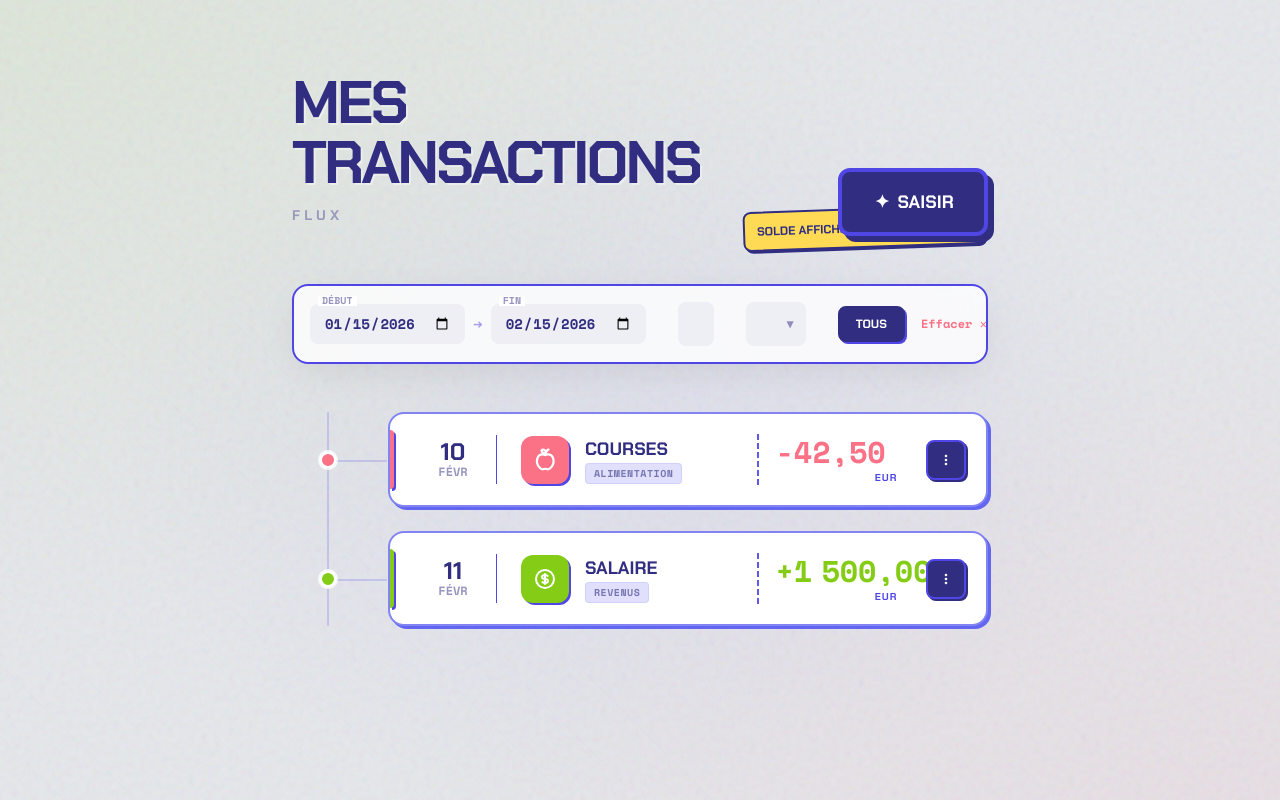
Test: US11 - Suppression transaction › La modale de confirmation affiche les infos de la transaction
This screenshot has width=1280, height=800.
Click the button titled "Actions" next to "42,50". click: coordinates (946, 460)
box: top-left (926, 440), bottom-right (966, 480)
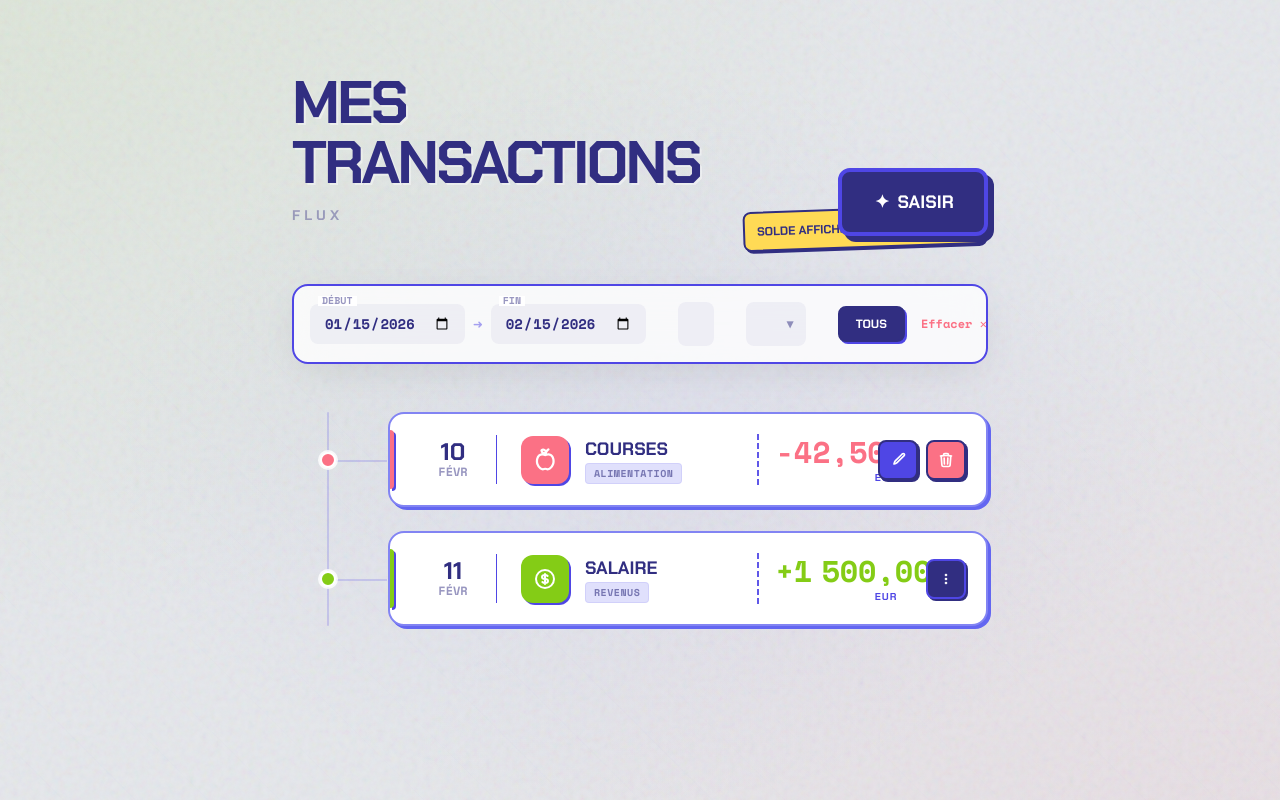
Click the button titled "Supprimer". click: coordinates (946, 460)
box: top-left (926, 440), bottom-right (966, 480)
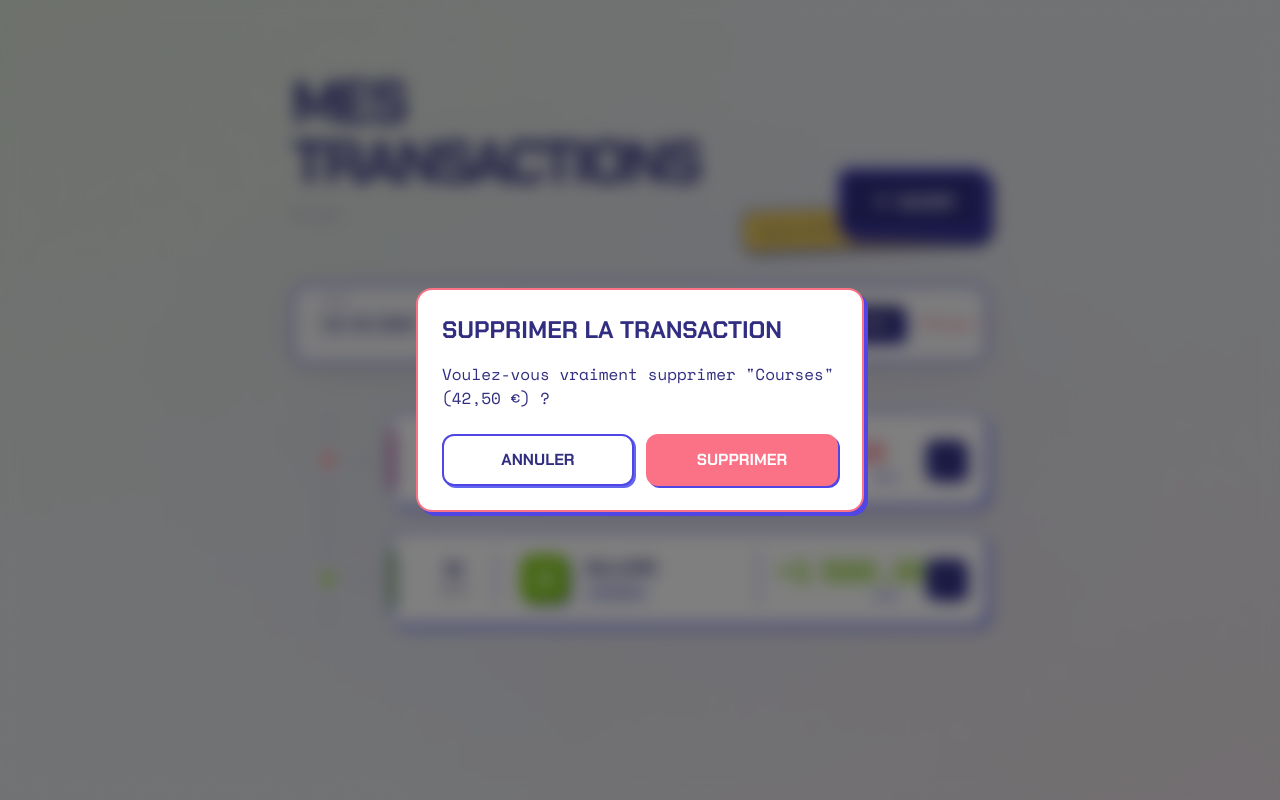
Expected: the heading "Supprimer la transaction" is shown, top-left (442, 314), bottom-right (838, 346)
